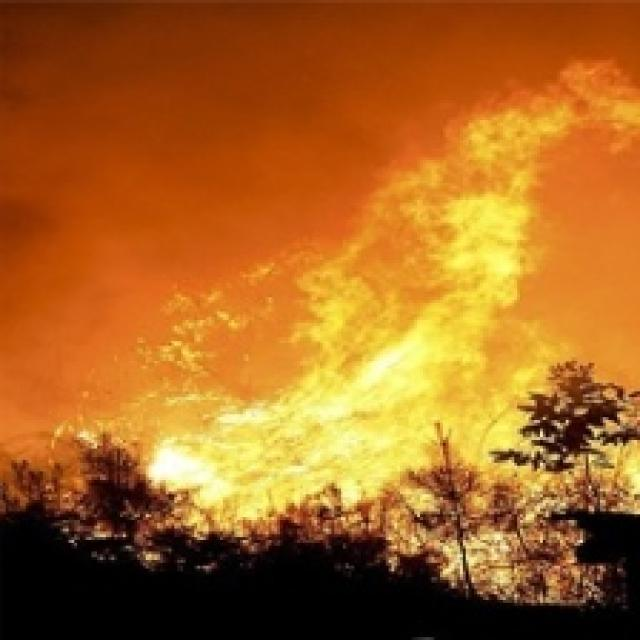Fire: (145, 200, 550, 510), (388, 62, 640, 191)
